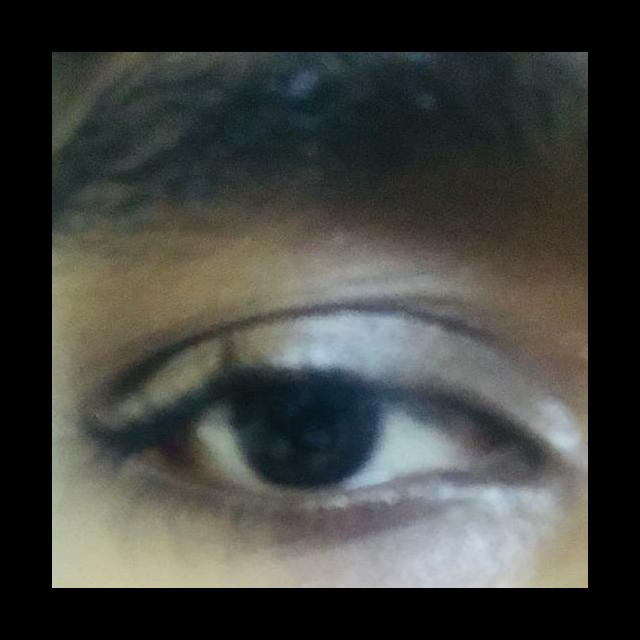eye: (178, 381, 474, 494)
iris: (229, 389, 384, 485)
